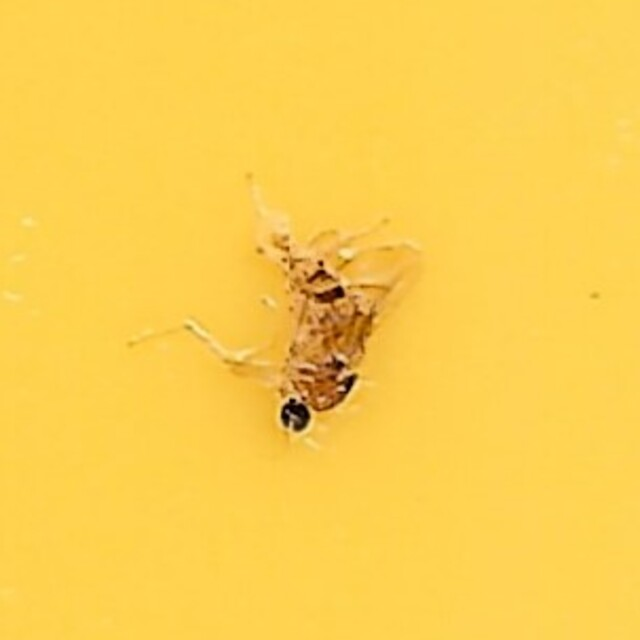Brachycera: (211, 196, 429, 444)
